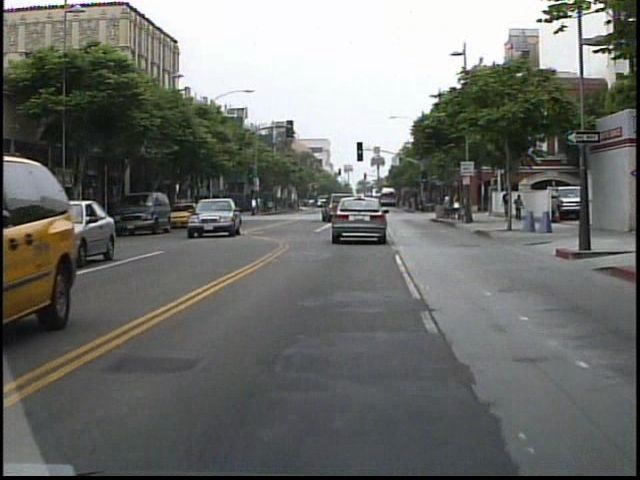person: (439, 189, 457, 222), (501, 187, 516, 226), (513, 191, 526, 225), (252, 194, 261, 219)
